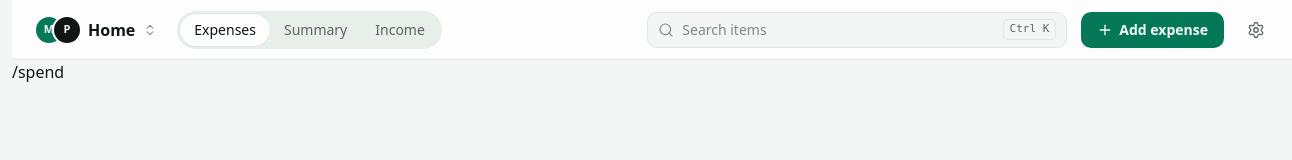
TopBar › types / into a field that already has focus
Click the search field labelled "Search items" at (838, 30), box [682,20,995,40]
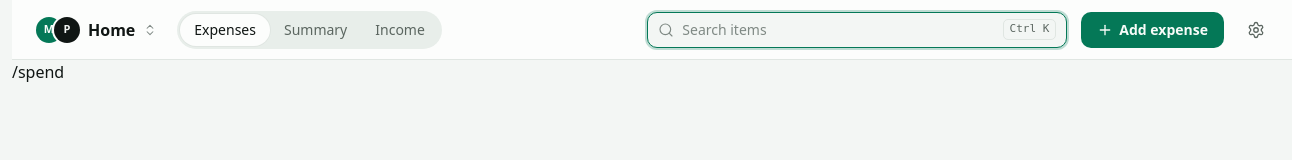
Type keys "a/b"
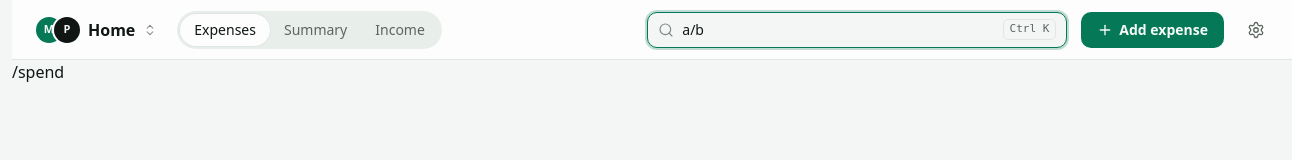
expect the search field named "Search items" holds "a/b": met, box [682,20,995,40]
